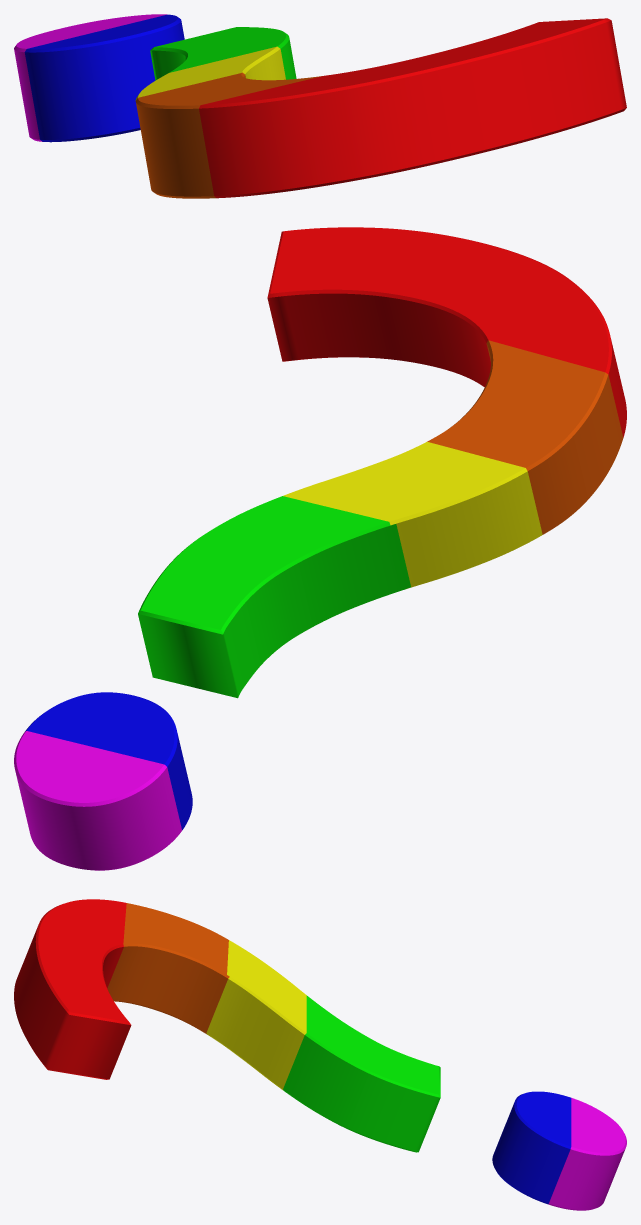
The model's file is random_pickup.dae.
The picture shows the model from 3 angles, top to bottom: view 1: azimuth 30°, elevation 25°; view 2: azimuth 150°, elevation 25°; view 3: azimuth 270°, elevation 25°; orthographic projection. The views are drawn at different scales.
Parts seen in each view (by area): view 1: Text; view 2: Text; view 3: Text.
Boxes of the visible parts, box(x1,y1,x2,y2) form: Text: box(14, 14, 626, 198); Text: box(14, 227, 626, 870); Text: box(14, 899, 626, 1210).
Size of the model in its own units: 1.94 by 3.78 by 1.71.
